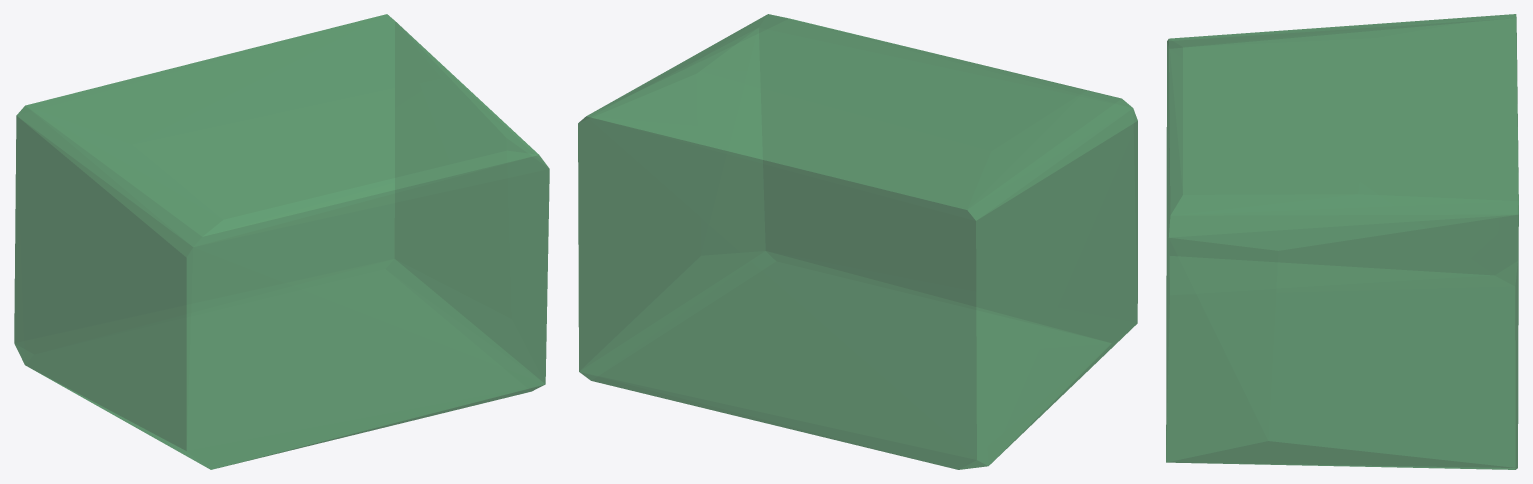
3 views of the same model, side by side, from view 1: azimuth 30°, elevation 25°; view 2: azimuth 150°, elevation 25°; view 3: azimuth 270°, elevation 25° (orthographic). The views are drawn at different scales.
Parts seen in each view (by area): view 1: Shape_IndexedFaceSet.008_Shape_IndexedFaceSet.5543; view 2: Shape_IndexedFaceSet.008_Shape_IndexedFaceSet.5543; view 3: Shape_IndexedFaceSet.008_Shape_IndexedFaceSet.5543.
Part boxes in pixels (x1,y1,x2,y2): Shape_IndexedFaceSet.008_Shape_IndexedFaceSet.5543: (14,14,549,469); Shape_IndexedFaceSet.008_Shape_IndexedFaceSet.5543: (578,14,1137,469); Shape_IndexedFaceSet.008_Shape_IndexedFaceSet.5543: (1166,14,1518,469).
Bounding box in the file's own units: 0.1724 × 0.1095 × 0.1293.
